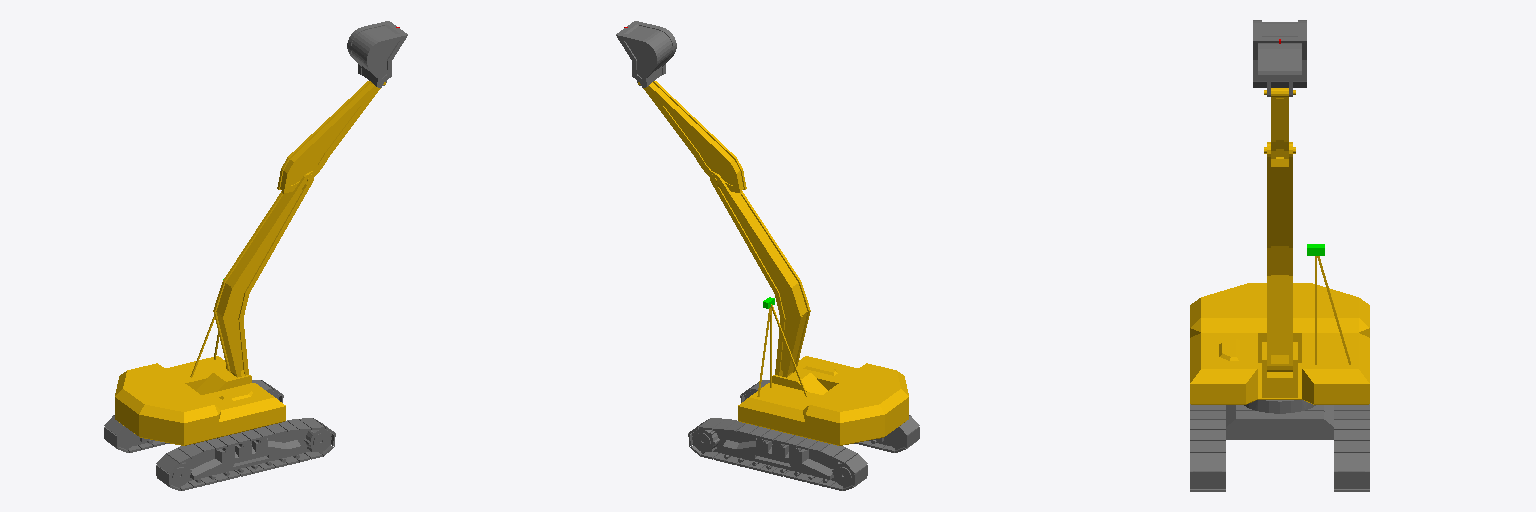
The robot description file, URDF, robot "Exca-1":
<?xml version="1.0" encoding="utf-8"?>
<robot name="Exca-1">
  <link name="base_link">
    <inertial>
      <origin xyz="-0.00093629 -7.0372E-16 0.067491" rpy="0 0 0" />
      <mass value="37.697" />
      <inertia ixx="0.8227" ixy="-6.4003E-17" ixz="0.001536" iyy="0.83904" iyz="-7.5689E-15" izz="1.5674" />
    </inertial>
    
    <visual>
      <origin xyz="0 0 0" rpy="0 0 0" />
      <geometry><mesh filename="package://Exca-1/meshes/base_link.STL" /></geometry>
      <material name=""><color rgba="0.5 0.5 0.5 1" /></material>
    </visual>
    
    <collision>
      <origin xyz="0 0 0" rpy="0 0 0" />
      <geometry><mesh filename="package://Exca-1/meshes/base_link_o.STL" /></geometry>
    </collision>
  </link>

  <link name="link_1">
    <inertial>
      <origin xyz="-0.16895 -1.1137E-15 0.081554" rpy="0 0 0" />
      <mass value="26.764" />
      <inertia ixx="0.30083" ixy="-3.5124E-17" ixz="0.024487" iyy="0.2943" iyz="1.729E-16" izz="0.53918" />
    </inertial>
    <visual>
      <origin xyz="0 0 0" rpy="0 0 0" />
      <geometry><mesh filename="package://Exca-1/meshes/link_1_cool.STL" /></geometry>
      <material name=""><color rgba="0.95 0.75 0.05 1" /></material>
    </visual>
    <collision>
      <origin xyz="0 0 0" rpy="0 0 0" />
      <geometry><mesh filename="package://Exca-1/meshes/link_1.STL" /></geometry>
    </collision>
  </link>

  <joint name="joint_1" type="continuous">
    <origin xyz="0 0 0.11304" rpy="0 0 0" />
    <parent link="base_link" />
    <child link="link_1" />
    <axis xyz="0 0 1" />
    <limit effort="1000" velocity="1" />
  </joint>

  <link name="link_2">
    <inertial>
      <origin xyz="0.30458 0.073788 1.4816E-14" rpy="0 0 0" />
      <mass value="6.2624" />
      <inertia ixx="0.011494" ixy="0.0067413" ixz="-1.8835E-15" iyy="0.19523" iyz="3.5397E-17" izz="0.20289" />
    </inertial>
    <visual>
      <origin xyz="0 0 0" rpy="0 0 0" />
      <geometry><mesh filename="package://Exca-1/meshes/link_2.STL" /></geometry>
      <material name=""><color rgba="0.95 0.75 0.05 1" /></material>
    </visual>
    <collision>
      <origin xyz="0 0 0" rpy="0 0 0" />
      <geometry><mesh filename="package://Exca-1/meshes/link_2_o.STL" /></geometry>
    </collision>
  </link>

  <joint name="joint_2" type="revolute">
    <origin xyz="0.07 0 0.115" rpy="1.5708 -1.2217 0" />
    <parent link="link_1" />
    <child link="link_2" />
    <axis xyz="0 0 1" />
    <limit lower="-1.919" upper="0" effort="1000" velocity="1" />
  </joint>

  <link name="link_3">
    <inertial>
      <origin xyz="0.1169 0.021719 1.0748E-14" rpy="0 0 0" />
      <mass value="3.0384" />
      <inertia ixx="0.0020654" ixy="0.0030753" ixz="-2.26E-16" iyy="0.040142" iyz="8.5149E-18" izz="0.041371" />
    </inertial>
    <visual>
      <origin xyz="0 0 0" rpy="0 0 0" />
      <geometry><mesh filename="package://Exca-1/meshes/link_3.STL" /></geometry>
      <material name=""><color rgba="0.95 0.75 0.05 1" /></material>
    </visual>
    <collision>
    </collision>
  </link>

  <joint name="joint_3" type="revolute">
    <origin xyz="0.672 0 0" rpy="0 0 -0.43633" />
    <parent link="link_2" />
    <child link="link_3" />
    <axis xyz="0 0 1" />
    <limit lower="-2.268" upper="0" effort="1000" velocity="1" />
  </joint>

  <link name="link_4">
    <inertial>
      <origin xyz="-0.019219 0.091842 9.4282E-15" rpy="0 0 0" />
      <mass value="1.1448" />
      <inertia ixx="0.0032492" ixy="-0.00034637" ixz="-2.0773E-19" iyy="0.0016958" iyz="1.0893E-19" izz="0.0039132" />
    </inertial>
    <visual>
      <origin xyz="0 0 0" rpy="0 0 0" />
      <geometry><mesh filename="package://Exca-1/meshes/link_4_12cm.STL" /></geometry>
      <material name=""><color rgba="0.5 0.5 0.5 1" /></material>
    </visual>
    <collision>
    </collision>
  </link>

  <joint name="joint_4" type="revolute">
    <origin xyz="0.37548 0 0" rpy="0 0 -0.7854" />
    <parent link="link_3" />
    <child link="link_4" />
    <axis xyz="0 0 1" />
    <limit lower="-3.141" upper="0" effort="1000" velocity="1" />
  </joint>

  <link name="dummy_link">
    <inertial>
      <origin xyz="-0.0025454 -2.2832E-14 -0.0041762" rpy="0 0 0" />
      <mass value="0.0006235" />
      <inertia ixx="9.2896E-09" ixy="3.8701E-23" ixz="-2.035E-09" iyy="1.1529E-08" iyz="2.9634E-23" izz="4.837E-09" />
    </inertial>
    <visual>
      <origin xyz="0 0 0" rpy="0 0 0" />
      <geometry><mesh filename="package://Exca-1/meshes/dummy_link.STL" /></geometry>
      <material name=""><color rgba="1 0 0 1" /></material>
    </visual>
    <collision>
    </collision>
  </link>

  <joint name="joint_tcp" type="fixed">
    <origin xyz="0.07 0.16 0" rpy="-1.5708 0 0" />
    <parent link="link_4" />
    <child link="dummy_link" />
    <axis xyz="0 0 0" />
  </joint>

  <gazebo>
    <plugin name="gazebo_ros_control" filename="libgazebo_ros_control.so">
      <robotNamespace>/</robotNamespace>
    </plugin>
  </gazebo>

  <transmission name="trans_joint_1">
    <type>transmission_interface/SimpleTransmission</type>
    <joint name="joint_1"><hardwareInterface>hardware_interface/PositionJointInterface</hardwareInterface></joint>
    <actuator name="motor_joint_1"><hardwareInterface>hardware_interface/PositionJointInterface</hardwareInterface><mechanicalReduction>1</mechanicalReduction></actuator>
  </transmission>

  <transmission name="trans_joint_2">
    <type>transmission_interface/SimpleTransmission</type>
    <joint name="joint_2"><hardwareInterface>hardware_interface/PositionJointInterface</hardwareInterface></joint>
    <actuator name="motor_joint_2"><hardwareInterface>hardware_interface/PositionJointInterface</hardwareInterface><mechanicalReduction>1</mechanicalReduction></actuator>
  </transmission>

  <transmission name="trans_joint_3">
    <type>transmission_interface/SimpleTransmission</type>
    <joint name="joint_3"><hardwareInterface>hardware_interface/PositionJointInterface</hardwareInterface></joint>
    <actuator name="motor_joint_3"><hardwareInterface>hardware_interface/PositionJointInterface</hardwareInterface><mechanicalReduction>1</mechanicalReduction></actuator>
  </transmission>

  <transmission name="trans_joint_4">
    <type>transmission_interface/SimpleTransmission</type>
    <joint name="joint_4"><hardwareInterface>hardware_interface/PositionJointInterface</hardwareInterface></joint>
    <actuator name="motor_joint_4"><hardwareInterface>hardware_interface/PositionJointInterface</hardwareInterface><mechanicalReduction>1</mechanicalReduction></actuator>
  </transmission>

  <link name="kamera_on_link">
    <visual>
      <origin xyz="0 0 0" rpy="0 0 0" />
      <geometry><box size="0.02 0.04 0.02" /></geometry>
      <material name=""><color rgba="0.0 1 0.0 1" /></material>
    </visual>
  </link>
  <joint name="kamera_on_joint" type="fixed">
    <origin xyz="0.08 0.08 0.4" rpy="0 0 0" /> <parent link="link_1" />
    <child link="kamera_on_link" />
  </joint>
  <link name="kamera_on_optical" />
  <joint name="kamera_on_optical_joint" type="fixed">
    <origin xyz="0 0 0" rpy="-1.5708 0 -1.5708" />
    <parent link="kamera_on_link" />
    <child link="kamera_on_optical" />
  </joint>

  <gazebo reference="kamera_on_link">
    <sensor type="depth" name="kamera_on_sensor">
      <always_on>true</always_on>
      <update_rate>10.0</update_rate> <camera>
        <horizontal_fov>1.57</horizontal_fov>
        <image><format>R8G8B8</format><width>640</width><height>480</height></image>
        <clip><near>0.05</near><far>2.5</far></clip> </camera>
      <plugin name="kamera_on_controller" filename="libgazebo_ros_openni_kinect.so">
        <cameraName>kamera_on</cameraName>
        <alwaysOn>true</alwaysOn><updateRate>10</updateRate>
        <imageTopicName>rgb/image_raw</imageTopicName>
        <depthImageTopicName>depth/image_raw</depthImageTopicName>
        <pointCloudTopicName>depth/points</pointCloudTopicName>
        <cameraInfoTopicName>rgb/camera_info</cameraInfoTopicName>
        <depthImageCameraInfoTopicName>depth/camera_info</depthImageCameraInfoTopicName>
        <frameName>kamera_on_optical</frameName>
        <baseline>0.1</baseline>
        <pointCloudCutoff>0.4</pointCloudCutoff>
        <pointCloudCutoffMax>2.5</pointCloudCutoffMax>
      </plugin>
    </sensor>
  </gazebo>
  <gazebo reference="base_link">
    <visual>
      <material>
        <ambient>0.3 0.3 0.3 1</ambient>
        <diffuse>0.3 0.3 0.3 1</diffuse>
        <specular>0.1 0.1 0.1 1</specular>
      </material>
    </visual>
  </gazebo>
  
  <link name="kamera_cukur_link">
  </link>

  <joint name="kamera_cukur_joint" type="fixed">
    <origin xyz="0.30 0.0 0.45" rpy="0 0.785 0" />
    <parent link="link_1" />
    <child link="kamera_cukur_link" />
  </joint>

  <link name="kamera_cukur_optical" />
  <joint name="kamera_cukur_optical_joint" type="fixed">
    <origin xyz="0 0 0" rpy="-1.5708 0 -1.5708" />
    <parent link="kamera_cukur_link" />
    <child link="kamera_cukur_optical" />
  </joint>

  <gazebo reference="kamera_cukur_link">
    <sensor type="depth" name="kamera_cukur_sensor">
      <always_on>true</always_on>
      <update_rate>10.0</update_rate>
      <camera>
        <horizontal_fov>1.57</horizontal_fov>
        <image><format>R8G8B8</format><width>640</width><height>480</height></image>
        <clip><near>0.05</near><far>3.0</far></clip>
      </camera>
      <plugin name="kamera_cukur_controller" filename="libgazebo_ros_openni_kinect.so">
        <cameraName>kamera_cukur</cameraName>
        <alwaysOn>true</alwaysOn><updateRate>10</updateRate>
        <imageTopicName>rgb/image_raw</imageTopicName>
        <depthImageTopicName>depth/image_raw</depthImageTopicName>
        <pointCloudTopicName>depth/points</pointCloudTopicName>
        <cameraInfoTopicName>rgb/camera_info</cameraInfoTopicName>
        <depthImageCameraInfoTopicName>depth/camera_info</depthImageCameraInfoTopicName>
        <frameName>kamera_cukur_optical</frameName>
        <baseline>0.1</baseline>
        <pointCloudCutoff>0.4</pointCloudCutoff>
        <pointCloudCutoffMax>2.6</pointCloudCutoffMax>
      </plugin>
    </sensor>
    <material>Gazebo/Orange</material>
  </gazebo>

  <gazebo reference="link_1">
    <visual>
      <material>
        <ambient>0.95 0.75 0.05 1</ambient>
        <diffuse>0.95 0.75 0.05 1</diffuse>
        <specular>0.6 0.6 0.6 1</specular>
      </material>
    </visual>
  </gazebo>

  <gazebo reference="link_2">
    <visual>
      <material>
        <ambient>0.95 0.75 0.05 1</ambient>
        <diffuse>0.95 0.75 0.05 1</diffuse>
        <specular>0.6 0.6 0.6 1</specular>
      </material>
    </visual>
  </gazebo>

  <gazebo reference="link_3">
    <visual>
      <material>
        <ambient>0.95 0.75 0.05 1</ambient>
        <diffuse>0.95 0.75 0.05 1</diffuse>
        <specular>0.6 0.6 0.6 1</specular>
      </material>
    </visual>
  </gazebo>

  <gazebo reference="link_4">
    <visual>
      <material>
        <ambient>0.35 0.35 0.35 1</ambient>
        <diffuse>0.35 0.35 0.35 1</diffuse>
        <specular>0.1 0.1 0.1 1</specular>
      </material>
    </visual>
  </gazebo>
  
  <gazebo reference="dummy_link"> <material>Gazebo/Red</material>
  </gazebo>
  
  <gazebo reference="kamera_on_link"> <material>Gazebo/Blue</material>
  </gazebo>
</robot>

--- What the picture shows (computed from the rendered views, not written in the file) ---
Views: 3 orthographic renders of the robot side by side, from view 1: azimuth 30°, elevation 25°; view 2: azimuth 150°, elevation 25°; view 3: azimuth 270°, elevation 25°.
Model Exca-1 with 10 links and 9 joints (3 revolute, 1 continuous, 5 fixed), rooted at base_link, posed every joint at zero.
Links seen in each view (by area): view 1: link_1, base_link, link_2, link_3, link_4; view 2: link_1, base_link, link_2, link_3, link_4; view 3: link_1, base_link, link_2, link_4, link_3.
Boxes of the visible links, <box> form: link_1: <box>115,316,285,445</box>; base_link: <box>104,380,335,490</box>; link_2: <box>213,173,313,377</box>; link_3: <box>277,81,385,193</box>; link_4: <box>347,21,407,87</box>; link_1: <box>738,304,908,445</box>; base_link: <box>688,380,919,490</box>; link_2: <box>710,173,810,377</box>; link_3: <box>638,81,746,193</box>; link_4: <box>616,21,676,87</box>; link_1: <box>1190,256,1369,404</box>; base_link: <box>1190,400,1369,491</box>; link_2: <box>1267,142,1292,371</box>; link_4: <box>1253,20,1306,96</box>; link_3: <box>1264,88,1295,158</box>.
Size in the robot's own frame: 0.9662 by 0.4 by 1.29 metres.
6 mesh visuals loaded from 6 distinct referenced files (6 binary STL).
